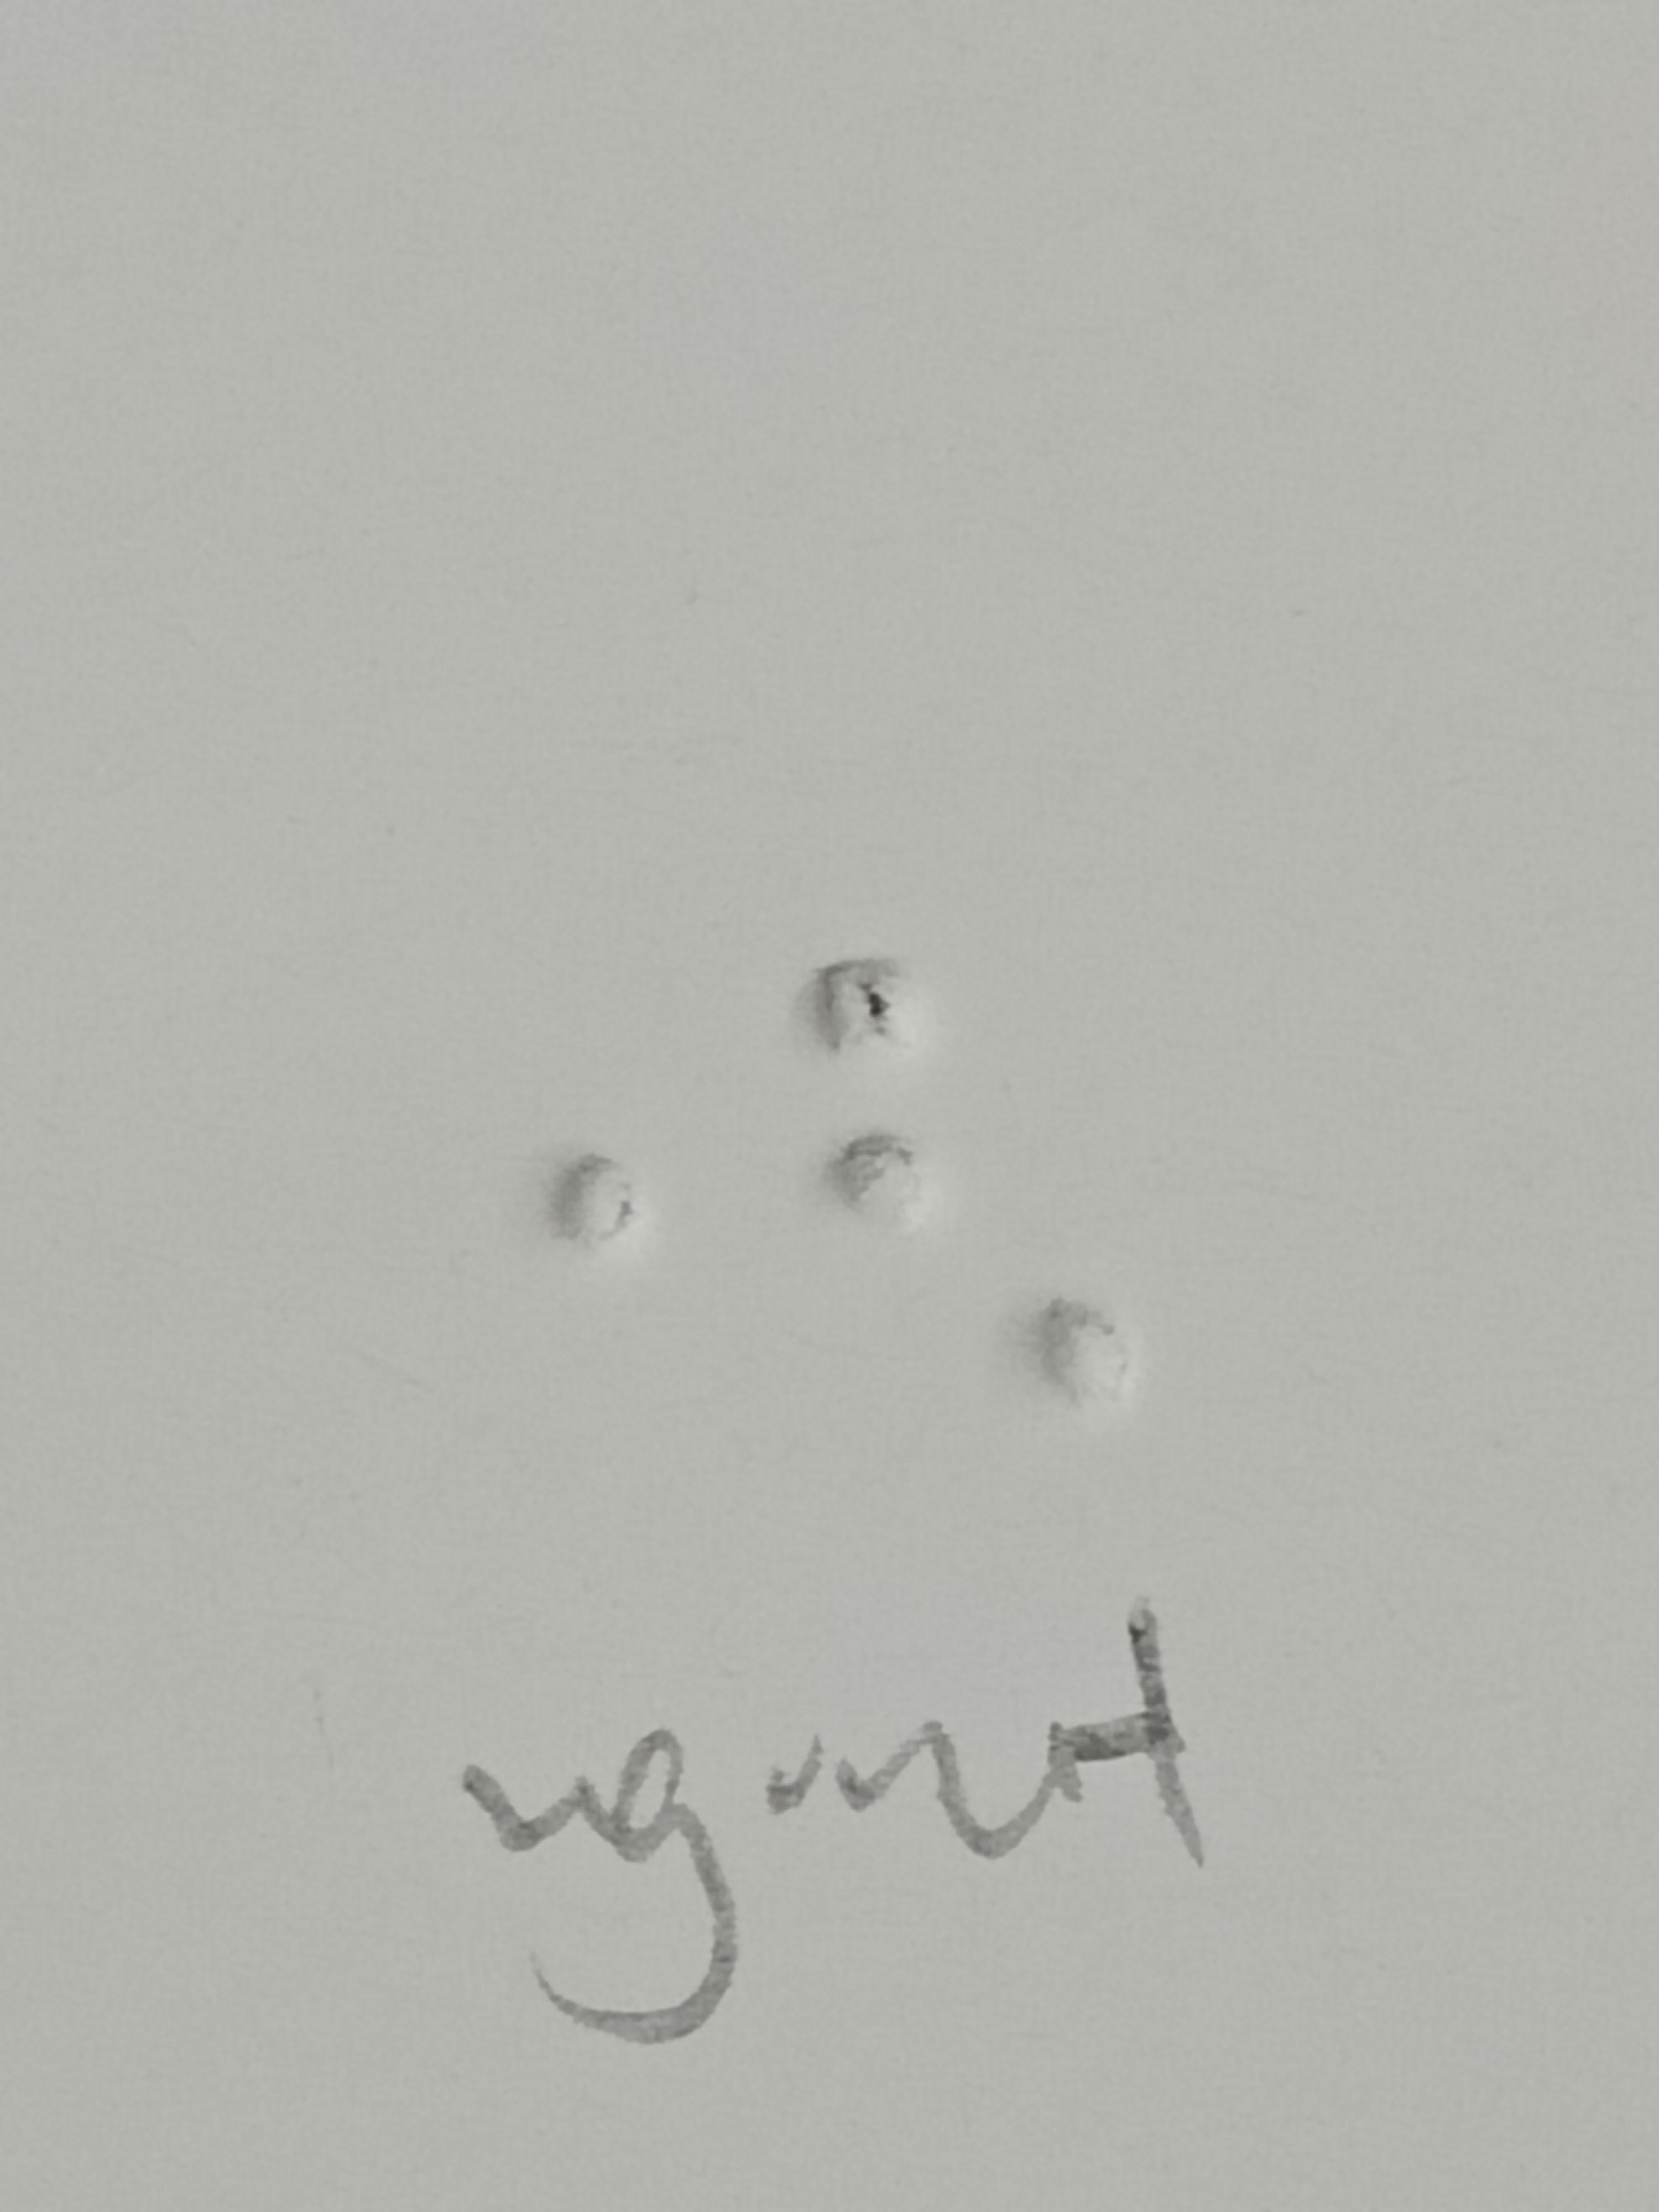dot_5: (329, 951, 641, 1432)
two_cell_non_alphabet_ngunit: (819, 948, 1133, 1428)
